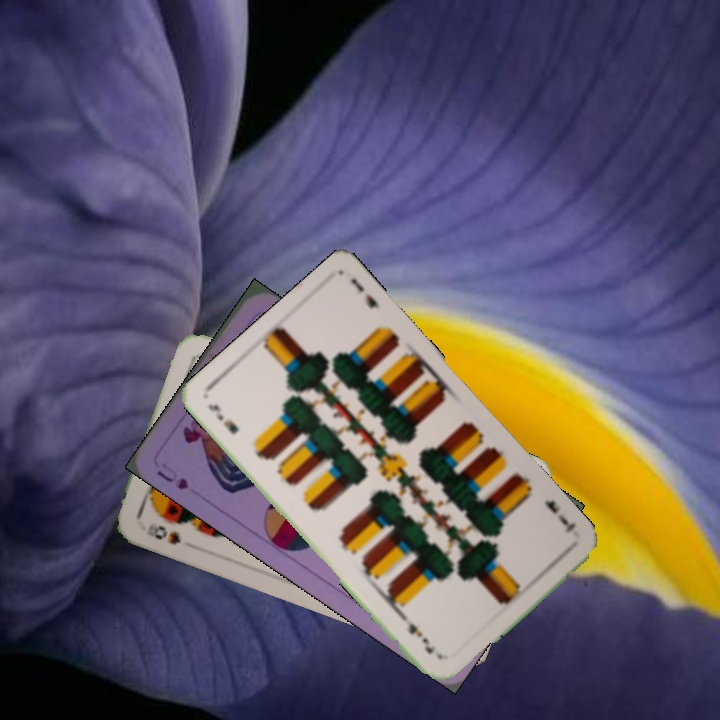E7: (540, 496, 579, 536), (203, 399, 242, 437)
S8: (143, 519, 184, 548)
SU: (153, 459, 191, 493)
